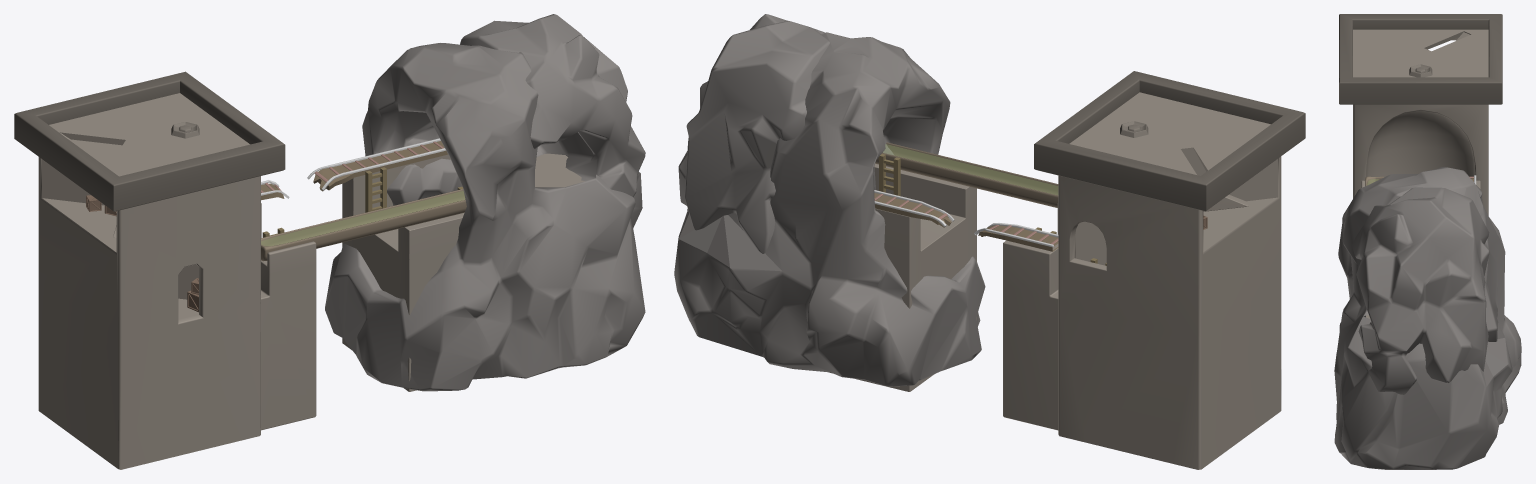
File: Level 2 V2.fbx
3 views of the same model, side by side, from view 1: azimuth 30°, elevation 25°; view 2: azimuth 150°, elevation 25°; view 3: azimuth 270°, elevation 25° (orthographic). The views are drawn at different scales.
Parts seen in each view (by area): view 1: Block (×2), Rocky_Island_Part_1, Rocky_Island_Part_2, Holder, Poison_River_Holder1, Liquid, RailHolder, Rails, Ladder3; view 2: Block (×2), Rocky_Island_Part_1, Rocky_Island_Part_2, Holder, Poison_River_Holder1, RailHolder, Liquid, Rails, Ladder4; view 3: Rocky_Island_Part_1, Block, Rocky_Island_Part_2, Crystal_Platform.
Part boxes in pixels (<box>): Block (×2): <box>14,71,584,469</box>; Rocky_Island_Part_1: <box>325,43,645,391</box>; Rocky_Island_Part_2: <box>460,14,645,228</box>; Holder: <box>261,203,316,430</box>; Poison_River_Holder1: <box>261,189,466,261</box>; Liquid: <box>261,191,464,245</box>; RailHolder: <box>261,141,448,200</box>; Rails: <box>261,138,445,198</box>; Ladder3: <box>365,167,386,212</box>; Block (×2): <box>829,71,1305,469</box>; Rocky_Island_Part_1: <box>674,32,985,386</box>; Rocky_Island_Part_2: <box>678,14,875,253</box>; Holder: <box>1003,203,1058,430</box>; Poison_River_Holder1: <box>875,142,1058,207</box>; RailHolder: <box>874,193,1058,251</box>; Liquid: <box>883,144,1057,194</box>; Rails: <box>874,190,1058,247</box>; Ladder4: <box>879,154,900,196</box>; Rocky_Island_Part_1: <box>1334,167,1521,469</box>; Block: <box>1339,14,1502,215</box>; Rocky_Island_Part_2: <box>1352,187,1498,394</box>; Crystal_Platform: <box>1409,64,1432,77</box>.
Bounding box in the file's own units: 46.94 × 24.36 × 16.55.
